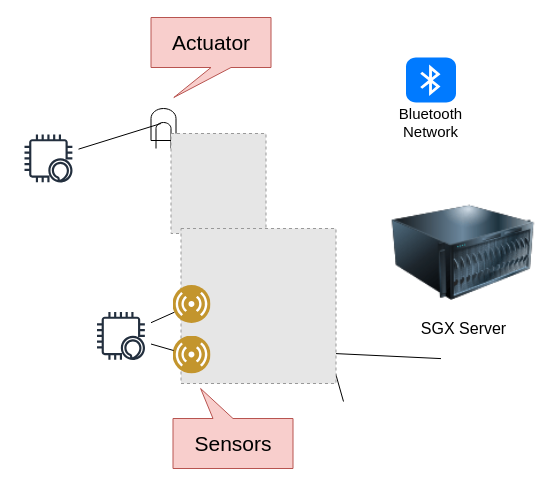
The diagram is 556 pixels wide and 486 high, and some of its shapes have lost their labels. Grey dashed boxes stand in for pictures. The shapes that lost their labels are listed below. From the top down, each one's centre as x and y in pixels, then its label:
point 48,158: Sancus 2
point 120,335: Sancus 1
